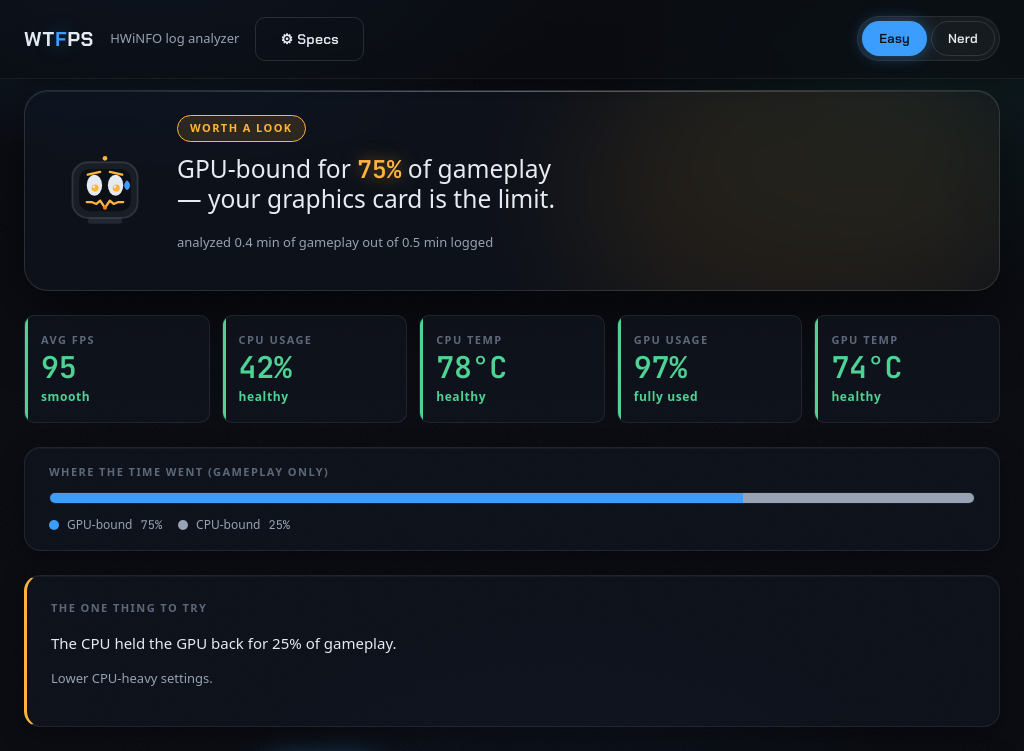
Scenario: App assembly › nerd mode: full findings with badges + evidence sections, no PrimaryFix
Click the tab "Nerd": coordinates (963, 39) [931,21,995,56]
(page scrolled)
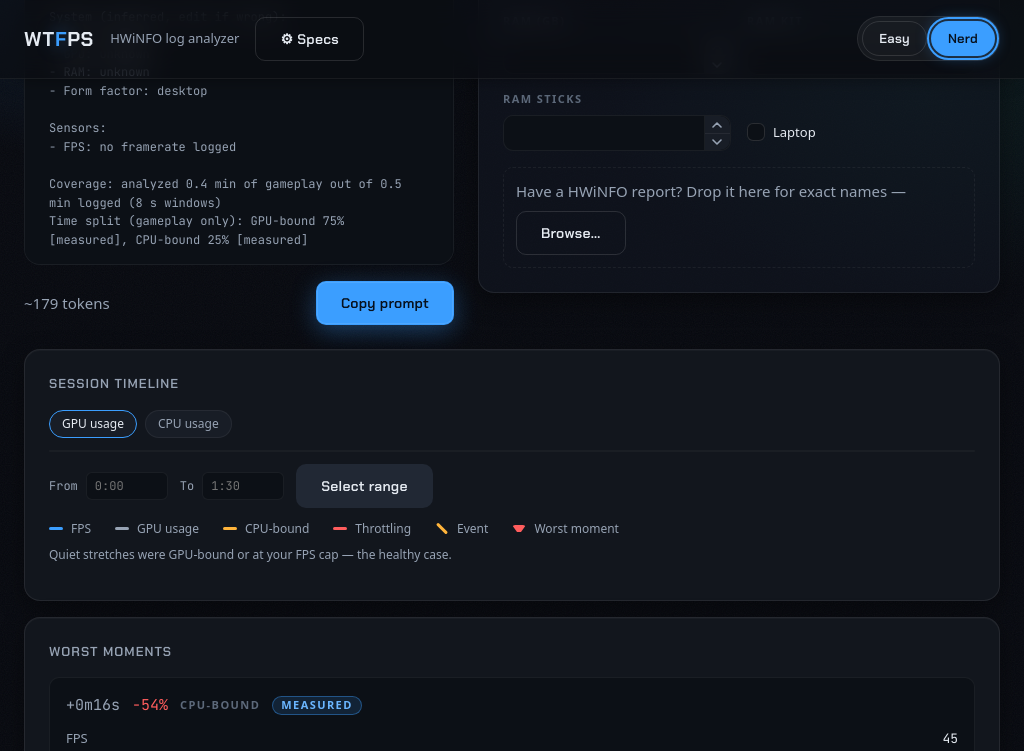
Check: the heading "Session timeline" is shown, box [49,376,179,392]
Check: the heading "The one thing to try" is gone
